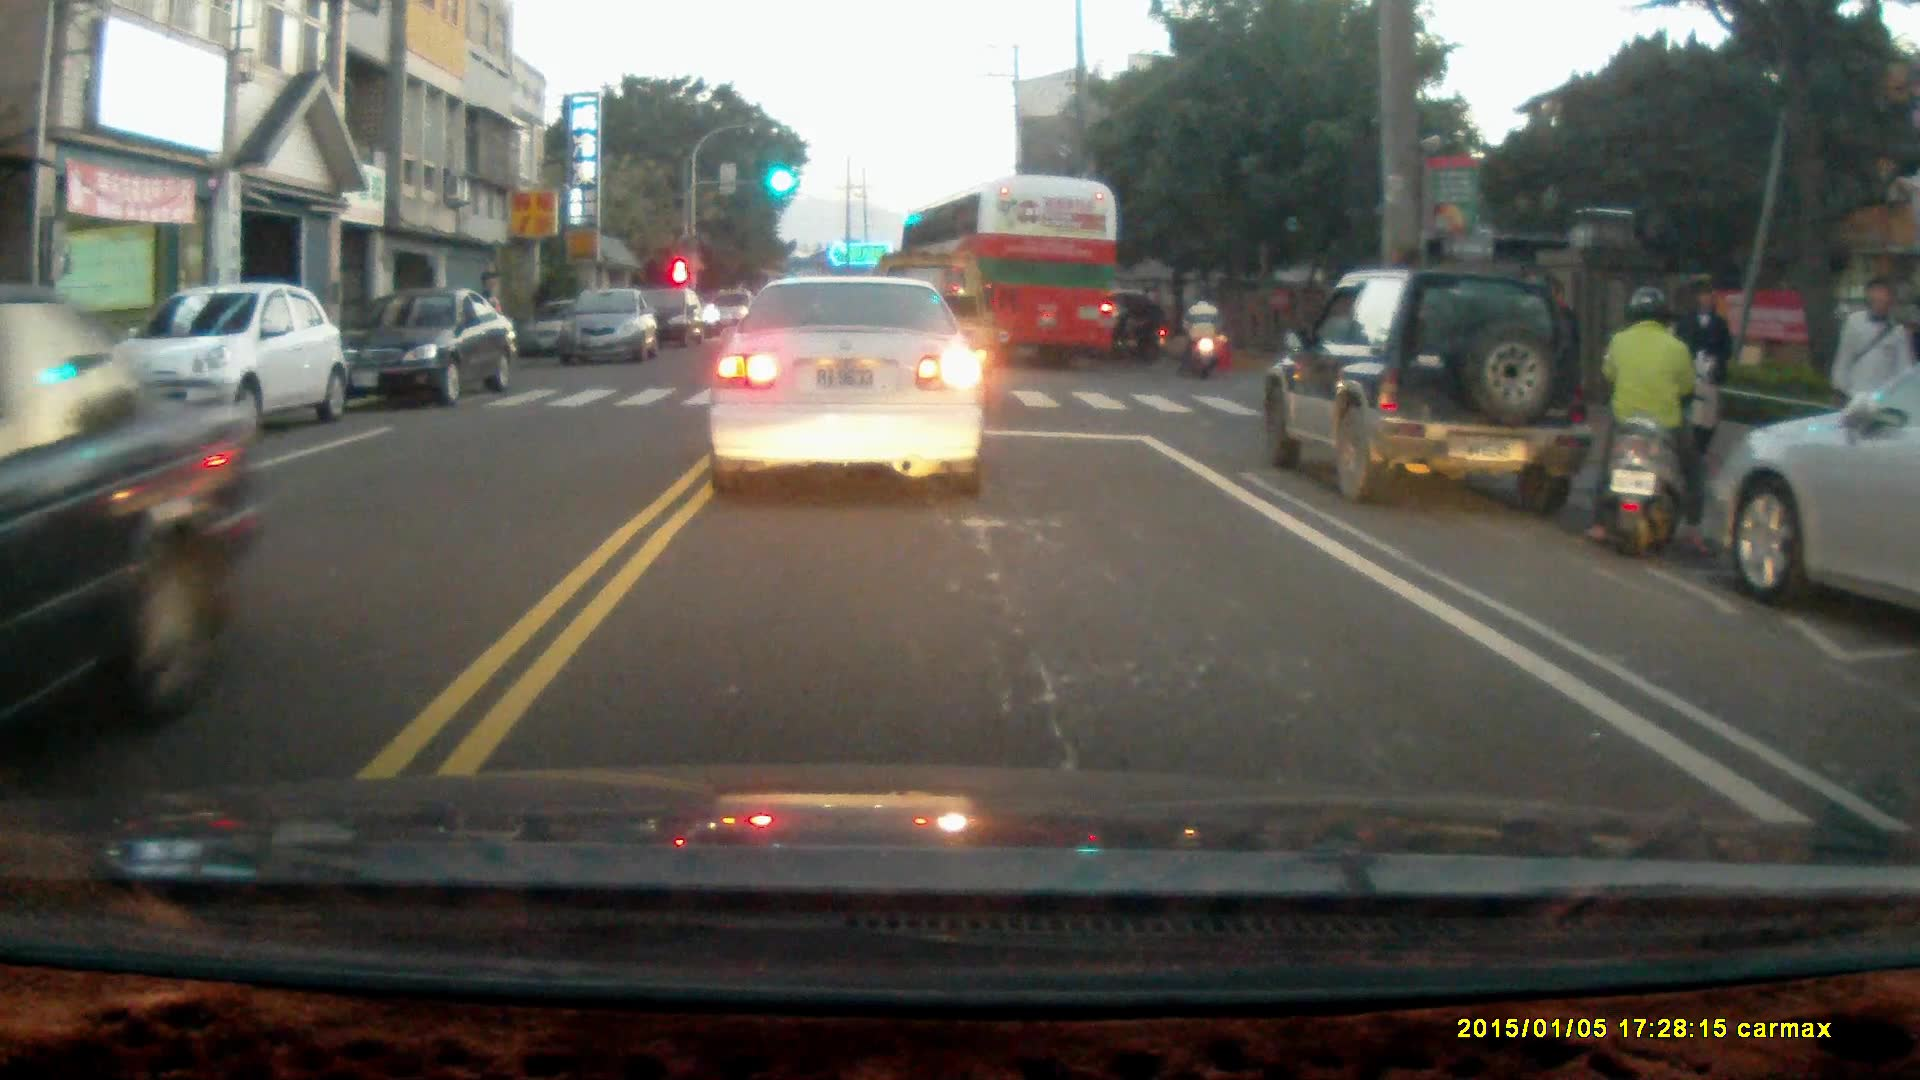pedestrian: (1832, 272, 1912, 460), (1678, 278, 1737, 472)
rider: (1582, 287, 1718, 556), (1104, 291, 1171, 366), (1180, 287, 1225, 378)
vehicle: (2, 282, 265, 771), (1262, 271, 1602, 515), (702, 272, 990, 501), (1702, 354, 1920, 624), (893, 173, 1123, 376), (335, 287, 521, 407), (558, 287, 654, 370), (628, 286, 713, 354)
